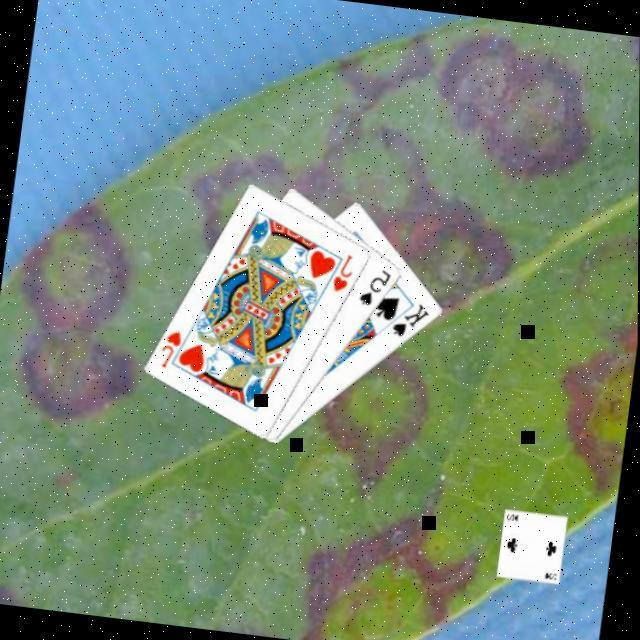5S: (356, 266, 396, 313)
JH: (156, 326, 186, 374), (329, 250, 358, 298)
KS: (388, 298, 434, 346)
